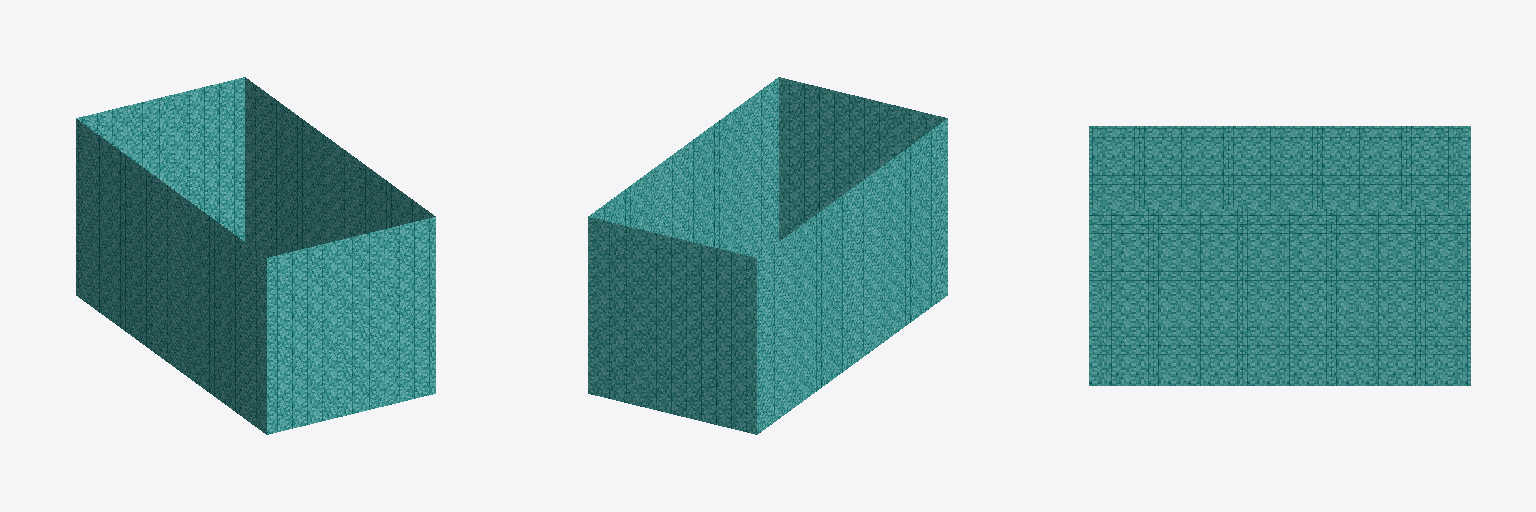
The picture shows the model from 3 angles: view 1: azimuth 30°, elevation 25°; view 2: azimuth 150°, elevation 25°; view 3: azimuth 270°, elevation 25°; orthographic projection.
Parts seen in each view (by area): view 1: Box001; view 2: Box001; view 3: Box001.
Part boxes in pixels (x1,y1,x2,y2): Box001: (76, 77, 435, 434); Box001: (588, 77, 947, 434); Box001: (1089, 126, 1470, 385).
Bounding box in the file's own units: 9.88 × 9.88 × 19.29.
Materials: 1 (1 with a texture image).